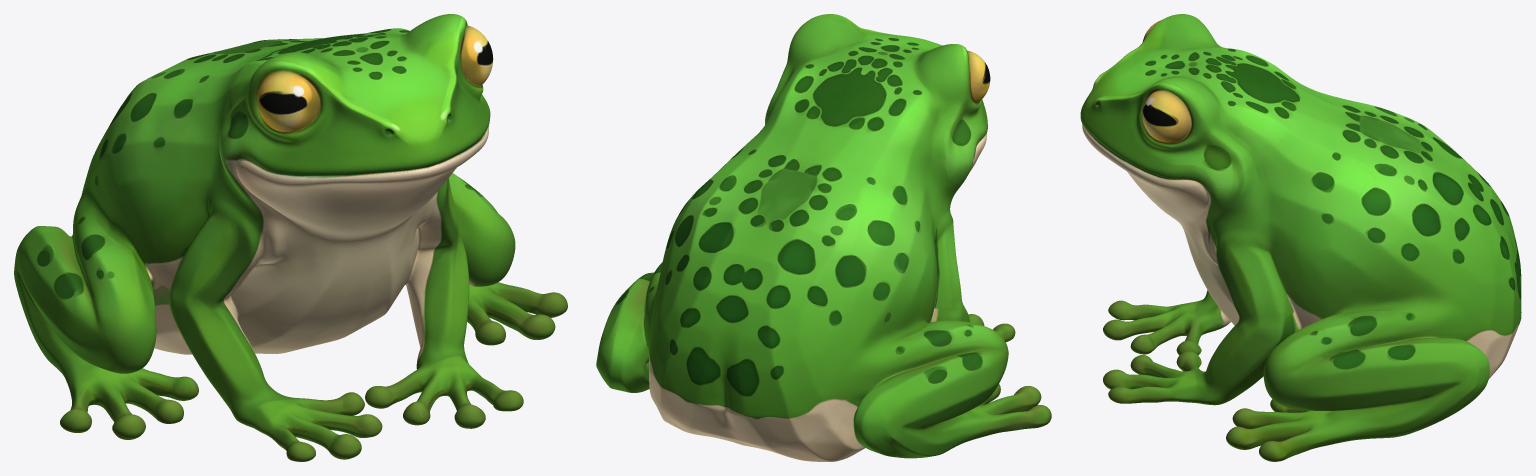
The model's file is Frog.glb.
The picture shows the model from 3 angles, left to right: view 1: azimuth 30°, elevation 25°; view 2: azimuth 150°, elevation 25°; view 3: azimuth 270°, elevation 25°; orthographic projection. The views are drawn at different scales.
Size of the model in its own units: 1.9 by 1.37 by 1.73.
Materials: 1 (1 with a texture image).
